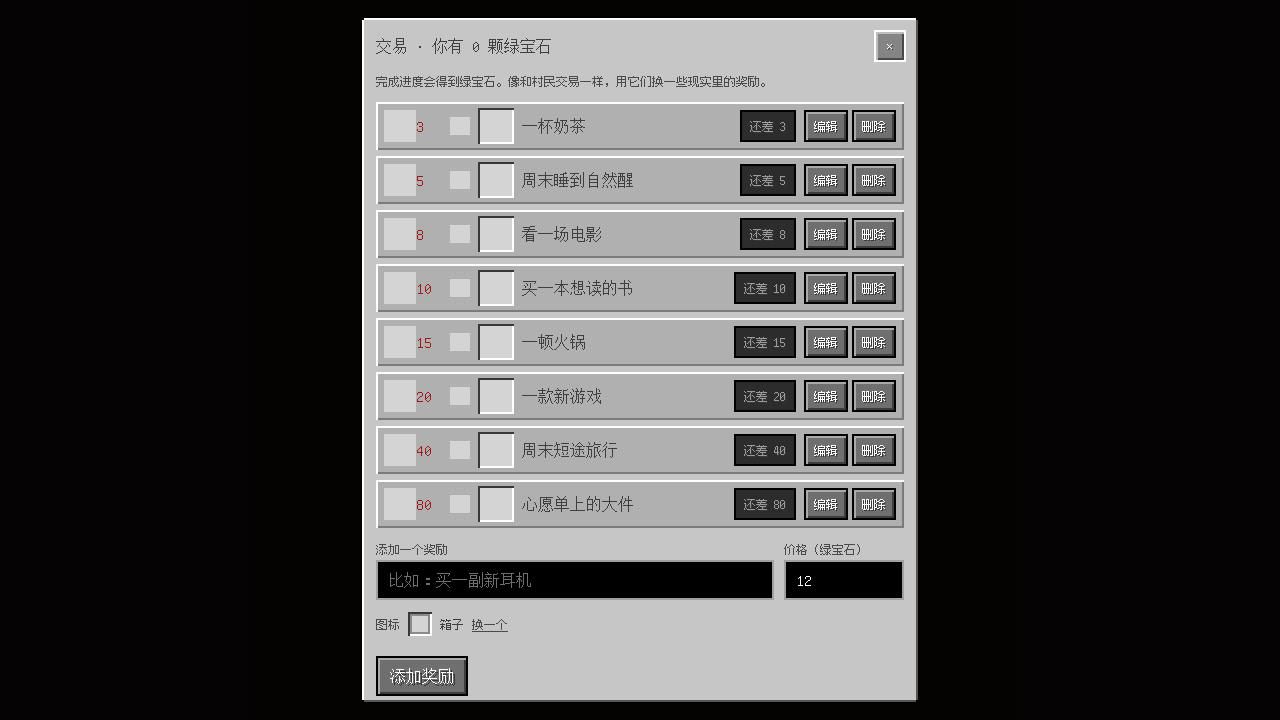
Scenario: TradeModal › deletes a reward only on a second click within 4 s
The image size is (1280, 720).
Click the button with aria-label "删除「看一场电影」" at (874, 234), box [852,218,896,250]
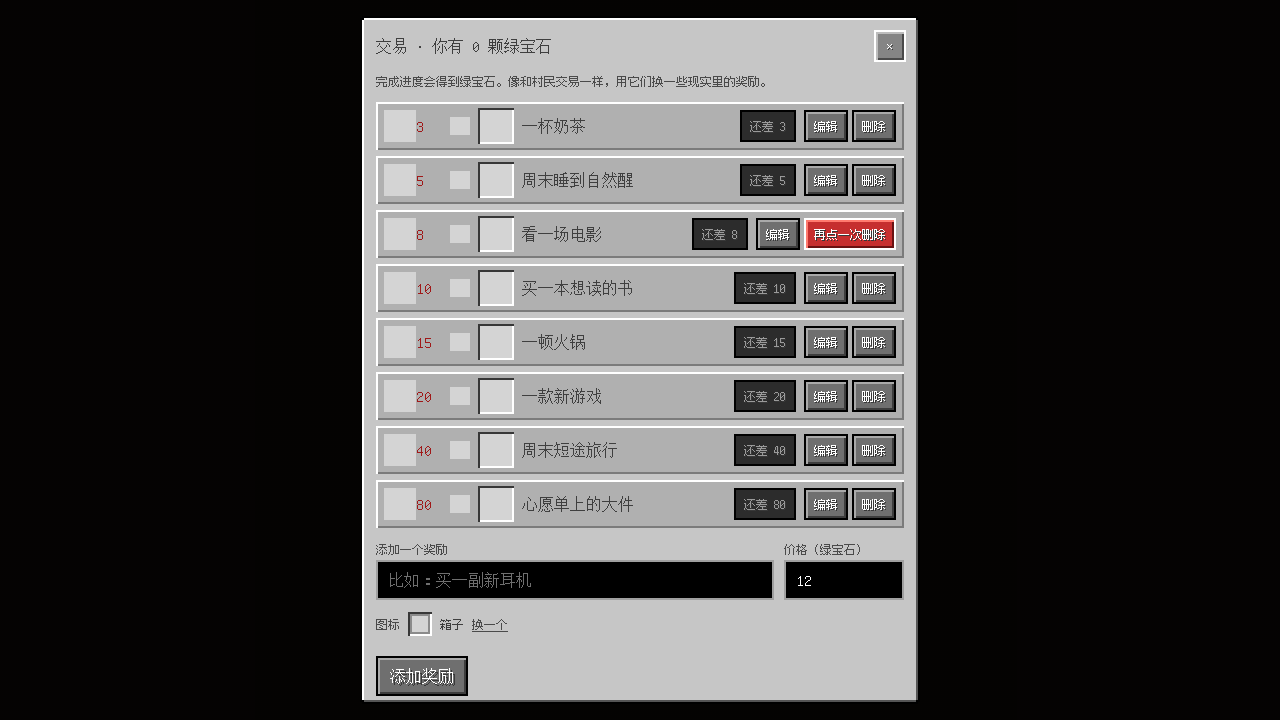
Check: the button with aria-label "删除「看一场电影」" reads "再点一次删除"
Click the button with aria-label "删除「看一场电影」" at (850, 234), box [804,218,896,250]
Wait 4000 ms
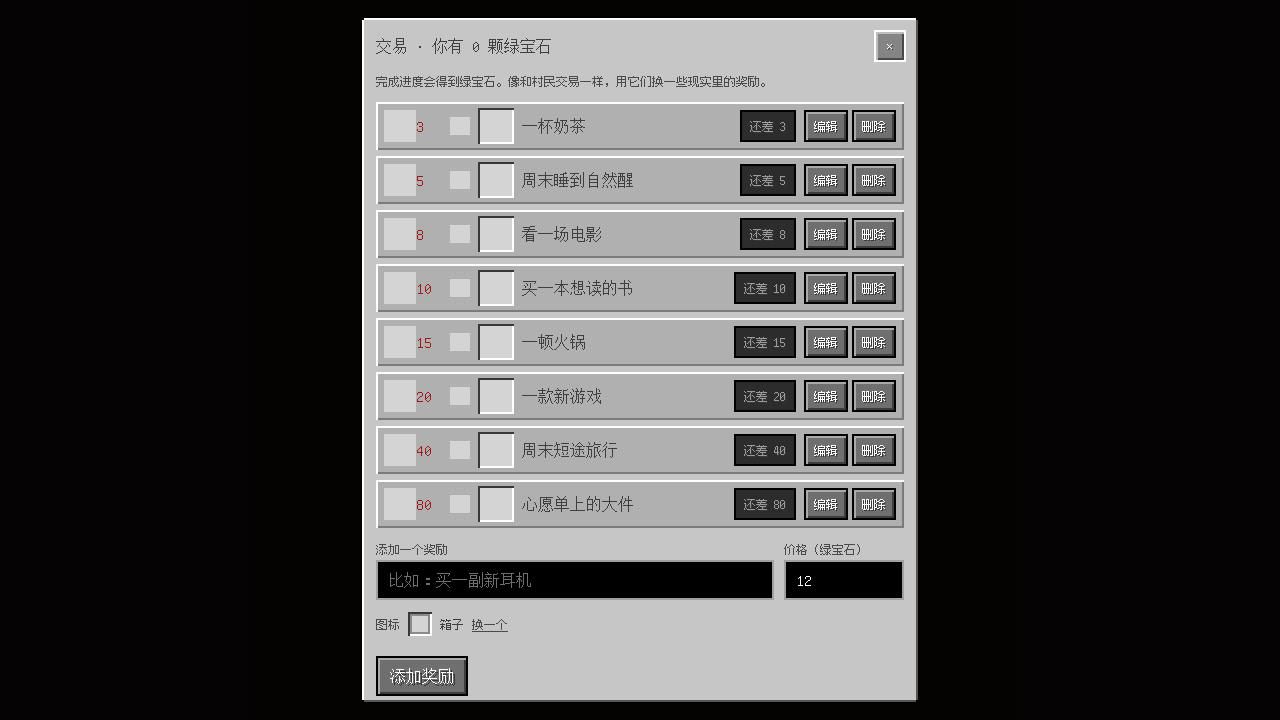
Click the button with aria-label "删除「看一场电影」" at (874, 234), box [852,218,896,250]
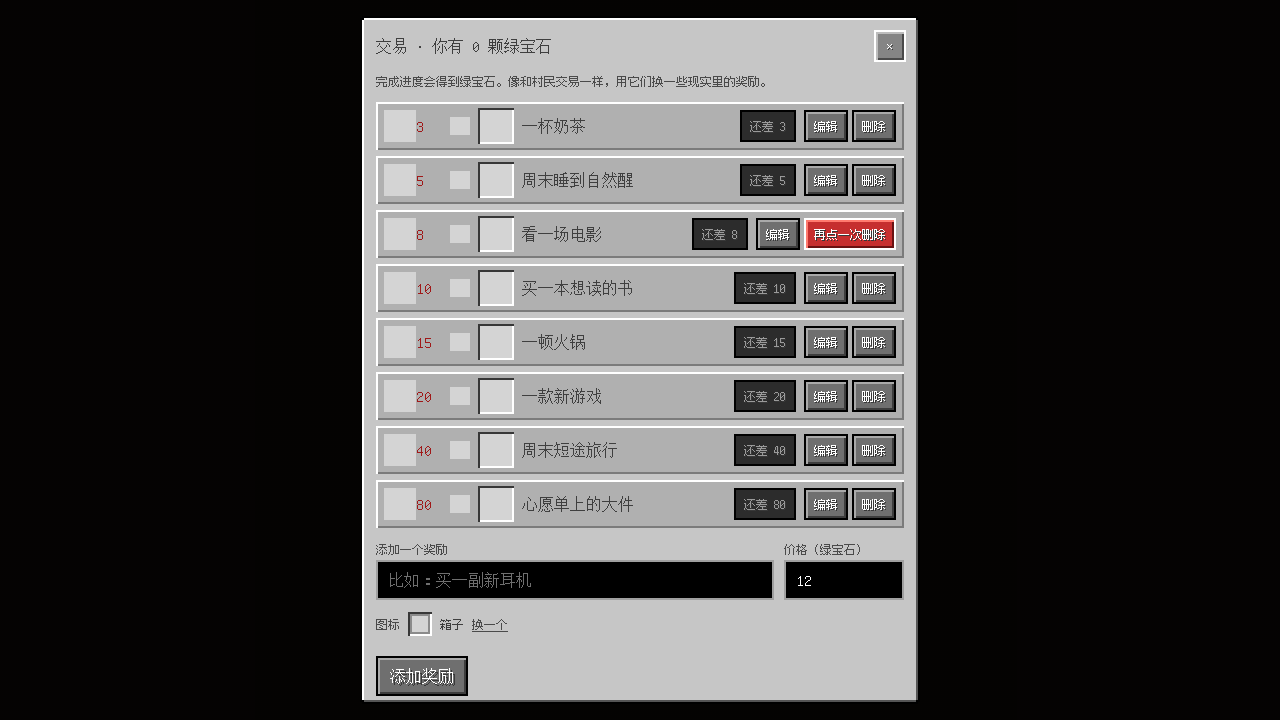
Click the button with aria-label "删除「看一场电影」" at (850, 234), box [804,218,896,250]
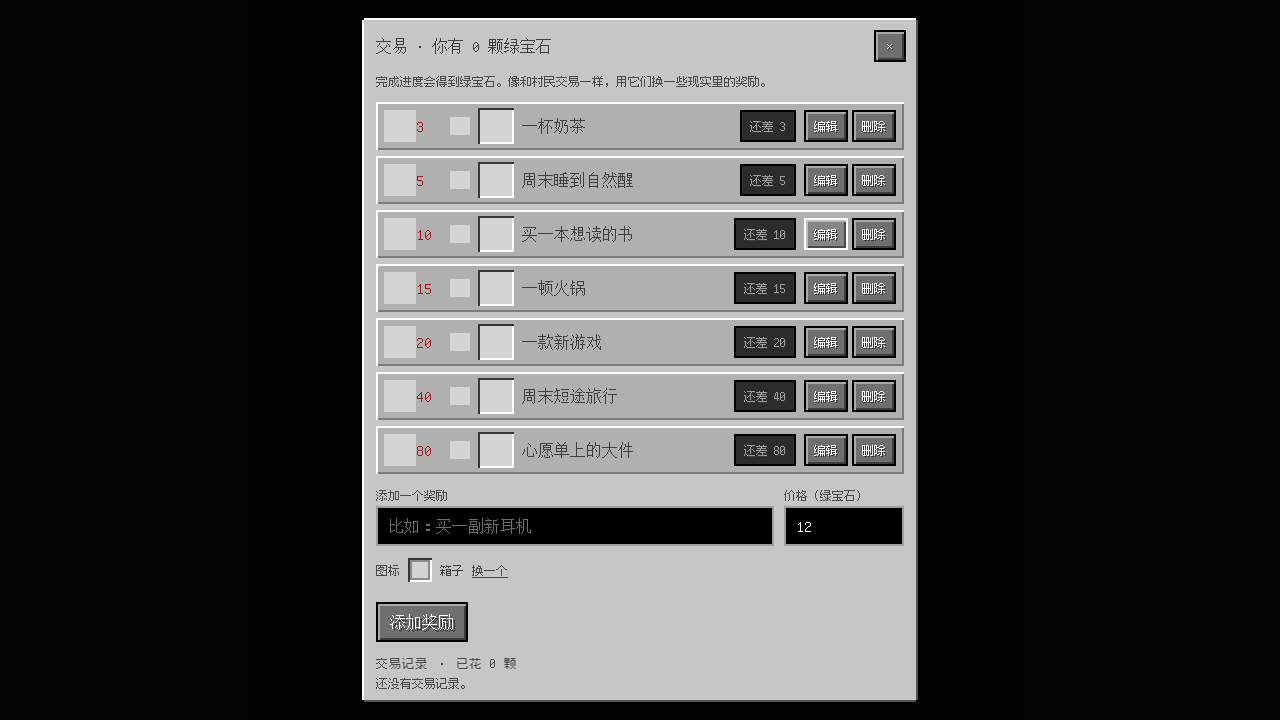
Check: the text "看一场电影" is gone
